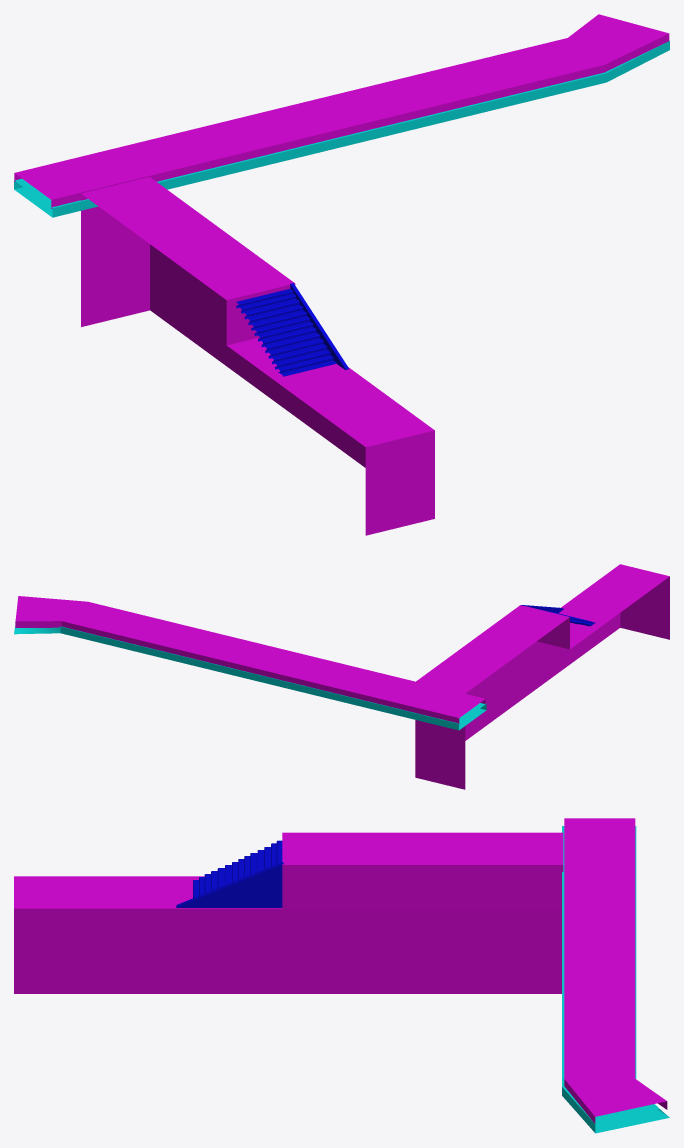
The model's file is backPlatforms Unity.fbx.
3 views of the same model, one above another, from view 1: azimuth 30°, elevation 25°; view 2: azimuth 150°, elevation 25°; view 3: azimuth 270°, elevation 25° (orthographic). The views are drawn at different scales.
Visible parts, largest first — view 1: backPlatformsUnity; view 2: backPlatformsUnity; view 3: backPlatformsUnity.
Boxes of the visible parts, <box> form: backPlatformsUnity: <box>14,14,669,535</box>; backPlatformsUnity: <box>14,564,669,789</box>; backPlatformsUnity: <box>14,818,669,1133</box>.
Bounding box in the file's own units: 42.7 × 8.64 × 39.62.
